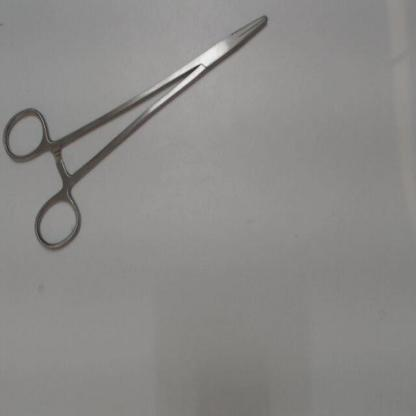8 Mayo Needle Holder: (0, 4, 289, 259)
